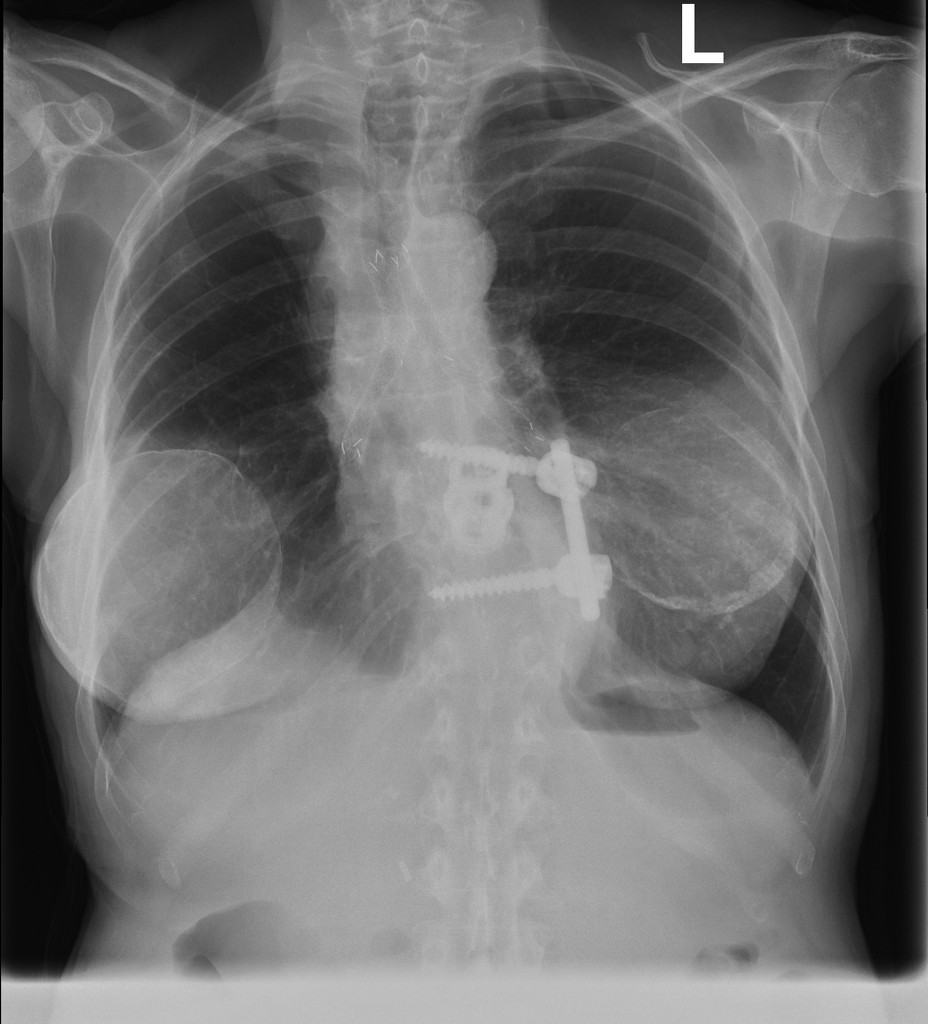cancer: (484, 204, 822, 749)
